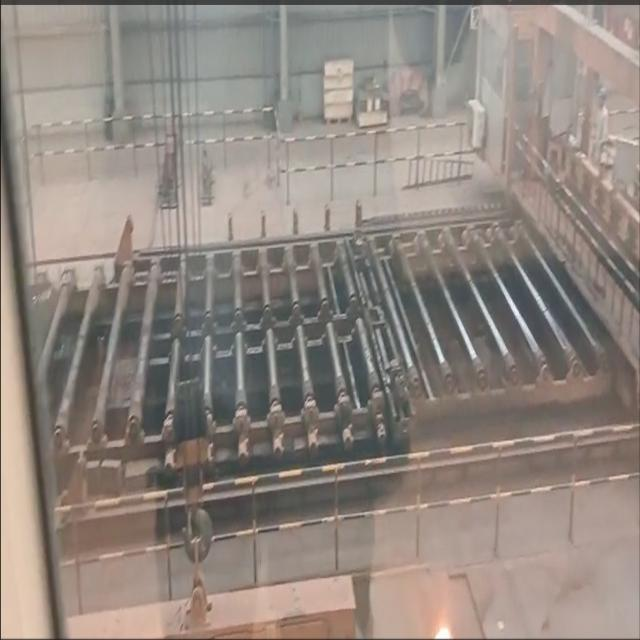warningzone: (32, 202, 619, 451)
